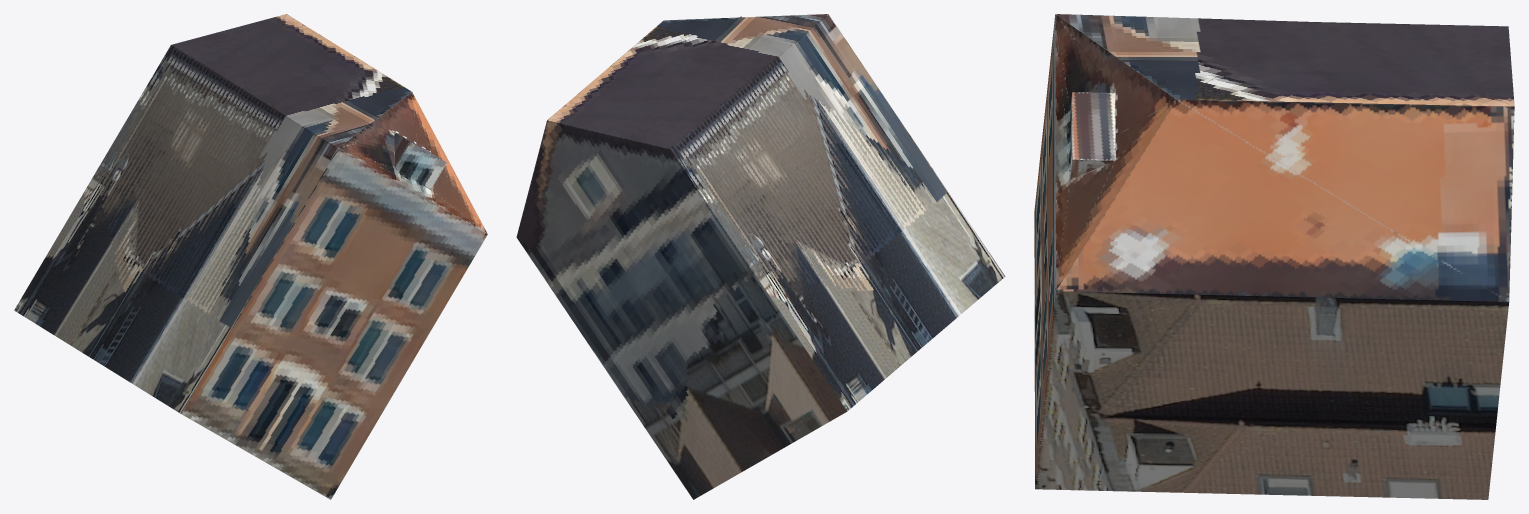
3 views of the same model, side by side, from view 1: azimuth 30°, elevation 25°; view 2: azimuth 150°, elevation 25°; view 3: azimuth 270°, elevation 25° (orthographic). The views are drawn at different scales.
Visible parts, largest first — view 1: BAG_0599100000675848 (×3); view 2: BAG_0599100000675848 (×3); view 3: BAG_0599100000675848 (×4).
Boxes of the visible parts, x1,y1,x2,y2 form: BAG_0599100000675848 (×3): (14, 14, 487, 499); BAG_0599100000675848 (×3): (516, 14, 1005, 499); BAG_0599100000675848 (×4): (1034, 14, 1514, 499).
Size of the model in its own units: 13.7 by 14.43 by 12.53.
1 material, 1 textured.
